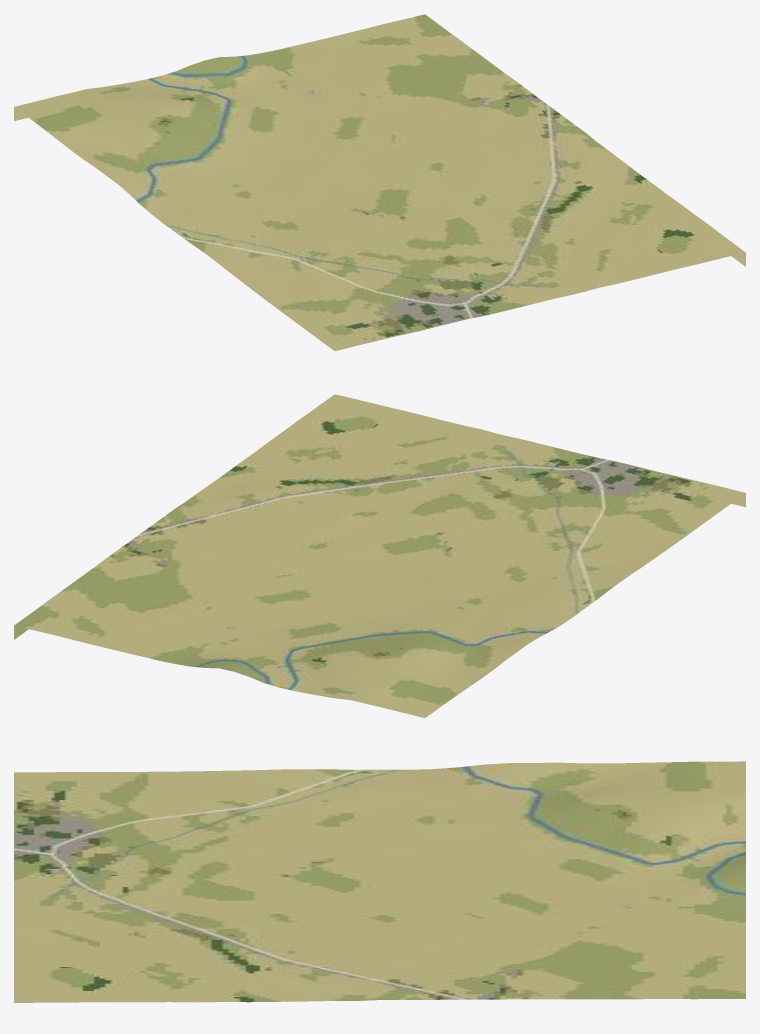
3 views of the same model, one above another, from view 1: azimuth 30°, elevation 25°; view 2: azimuth 150°, elevation 25°; view 3: azimuth 270°, elevation 25° (orthographic). The views are drawn at different scales.
Size of the model in its own units: 1806 by 114 by 2441.
1 material, 1 textured.
